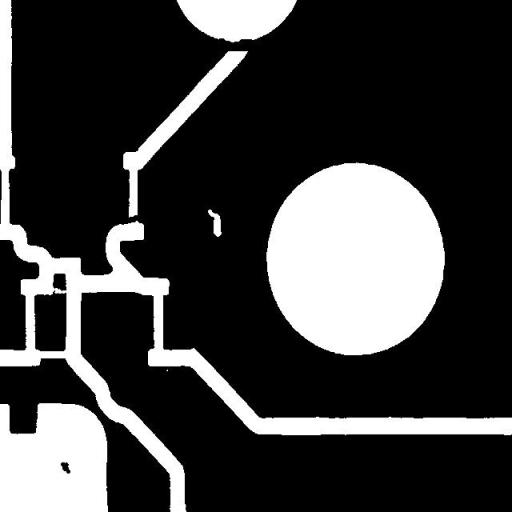copper: (52, 454, 78, 481)
open: (30, 342, 76, 366), (37, 278, 77, 301)
pin-hole: (200, 202, 229, 244)
short: (209, 30, 265, 58), (112, 207, 151, 232)
